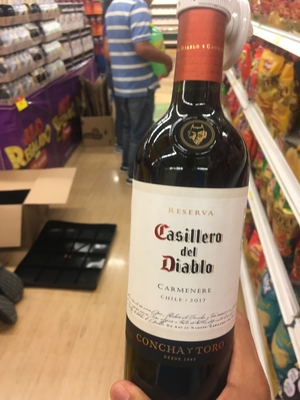casillero del diablo carmenere: (114, 16, 259, 395)
